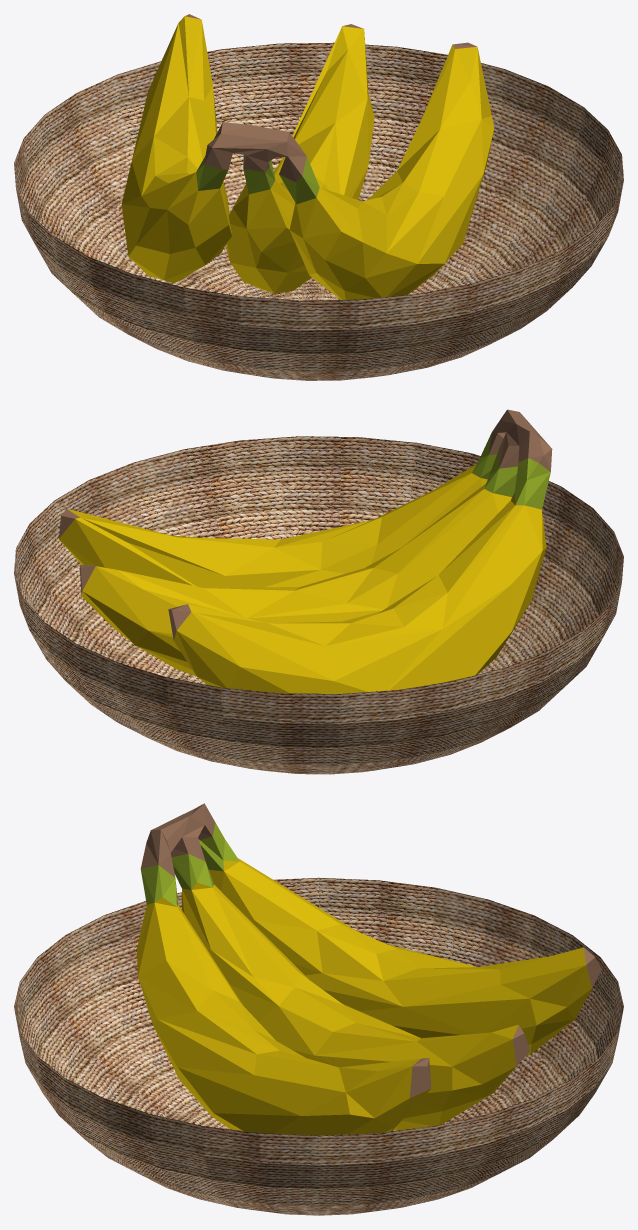
The model's file is pasalubong.glb.
3 renders of one model, top to bottom at view 1: azimuth 30°, elevation 25°; view 2: azimuth 150°, elevation 25°; view 3: azimuth 270°, elevation 25°, orthographic.
Parts seen in each view (by area): view 1: Low Poly Banana Triple; view 2: Low Poly Banana Triple; view 3: Low Poly Banana Triple.
Boxes of the visible parts, x1=… form: Low Poly Banana Triple: x1=14, y1=14, x2=623, y2=380; Low Poly Banana Triple: x1=14, y1=409, x2=623, y2=774; Low Poly Banana Triple: x1=14, y1=803, x2=623, y2=1215.
Size of the model in its own units: 0.7322 by 0.3893 by 0.7322.
2 materials, 2 textured.
